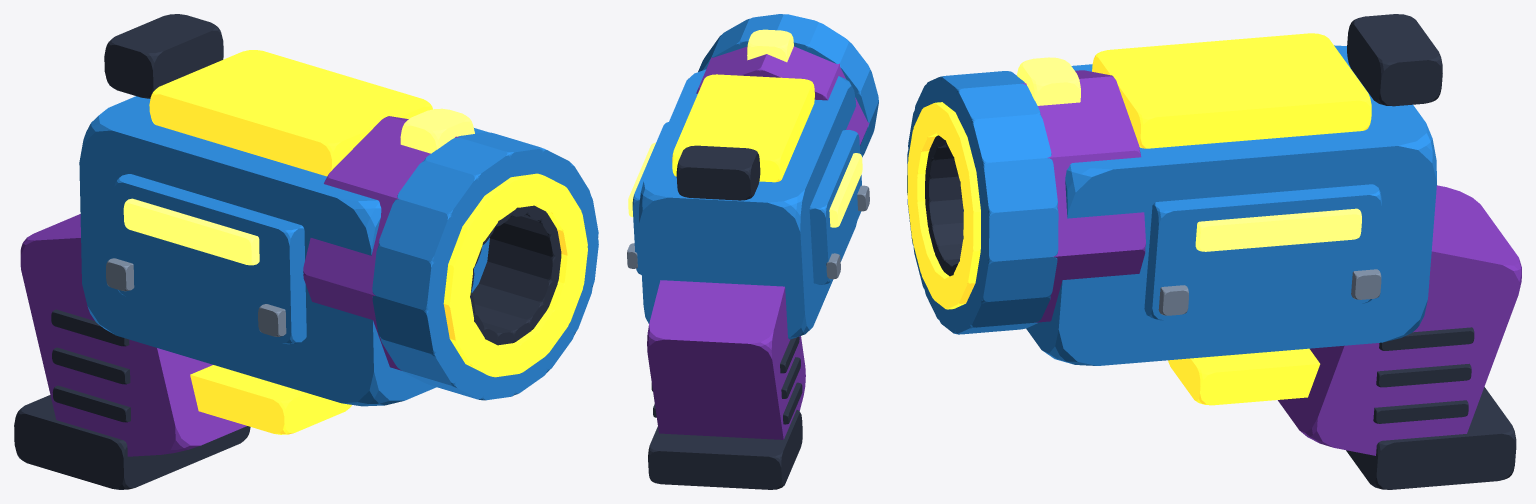
The model's file is Pistol.fbx.
The picture shows the model from 3 angles, left to right: view 1: azimuth 30°, elevation 25°; view 2: azimuth 150°, elevation 25°; view 3: azimuth 270°, elevation 25°; orthographic projection. The views are drawn at different scales.
Visible parts, largest first — view 1: Weapon_Pistol_Body, Weapon_Pistol_MuzzleCollar, Weapon_Pistol_Accent, Weapon_Pistol_Grip, Weapon_Pistol_SidePlate_-1, Weapon_Pistol_MuzzleRim, Weapon_Pistol_Barrel, Weapon_Pistol_Bore, Weapon_Pistol_GripHeel, Weapon_Pistol_RearSight, Weapon_Pistol_TriggerGuard, Weapon_Pistol_SideStripe_-1 (+6 smaller); view 2: Weapon_Pistol_Body, Weapon_Pistol_Grip, Weapon_Pistol_Accent, Weapon_Pistol_GripHeel, Weapon_Pistol_MuzzleCollar, Weapon_Pistol_RearSight, Weapon_Pistol_SidePlate_-1, Weapon_Pistol_Barrel, Weapon_Pistol_FrontSight, Weapon_Pistol_SideStripe_-1, Weapon_Pistol_SidePlate_1, Weapon_Pistol_GripRib_-1_2 (+5 smaller); view 3: Weapon_Pistol_Body, Weapon_Pistol_Grip, Weapon_Pistol_Accent, Weapon_Pistol_MuzzleCollar, Weapon_Pistol_SidePlate_1, Weapon_Pistol_Barrel, Weapon_Pistol_GripHeel, Weapon_Pistol_MuzzleRim, Weapon_Pistol_RearSight, Weapon_Pistol_TriggerGuard, Weapon_Pistol_SideStripe_1, Weapon_Pistol_Bore (+6 smaller).
Part boxes in pixels (left/top/right/bottom): Weapon_Pistol_Body: left=79, top=96, right=489, bottom=406; Weapon_Pistol_MuzzleCollar: left=372, top=132, right=598, bottom=400; Weapon_Pistol_Accent: left=149, top=50, right=432, bottom=176; Weapon_Pistol_Grip: left=20, top=214, right=246, bottom=456; Weapon_Pistol_SidePlate_-1: left=113, top=174, right=306, bottom=344; Weapon_Pistol_MuzzleRim: left=443, top=173, right=587, bottom=377; Weapon_Pistol_Barrel: left=303, top=116, right=459, bottom=370; Weapon_Pistol_Bore: left=470, top=205, right=561, bottom=345; Weapon_Pistol_GripHeel: left=14, top=395, right=250, bottom=489; Weapon_Pistol_RearSight: left=104, top=14, right=223, bottom=98; Weapon_Pistol_TriggerGuard: left=190, top=365, right=351, bottom=434; Weapon_Pistol_SideStripe_-1: left=123, top=198, right=259, bottom=265; Weapon_Pistol_Body: left=639, top=69, right=856, bottom=339; Weapon_Pistol_Grip: left=647, top=280, right=805, bottom=439; Weapon_Pistol_Accent: left=672, top=74, right=814, bottom=182; Weapon_Pistol_GripHeel: left=648, top=410, right=802, bottom=489; Weapon_Pistol_MuzzleCollar: left=698, top=14, right=878, bottom=157; Weapon_Pistol_RearSight: left=676, top=145, right=760, bottom=200; Weapon_Pistol_SidePlate_-1: left=809, top=130, right=861, bottom=284; Weapon_Pistol_Barrel: left=696, top=46, right=869, bottom=145; Weapon_Pistol_FrontSight: left=747, top=29, right=793, bottom=62; Weapon_Pistol_SideStripe_-1: left=829, top=153, right=862, bottom=227; Weapon_Pistol_SidePlate_1: left=632, top=122, right=668, bottom=274; Weapon_Pistol_GripRib_-1_2: left=783, top=382, right=802, bottom=424; Weapon_Pistol_Body: left=1026, top=45, right=1436, bottom=365; Weapon_Pistol_Grip: left=1278, top=185, right=1521, bottom=455; Weapon_Pistol_Accent: left=1092, top=33, right=1371, bottom=148; Weapon_Pistol_MuzzleCollar: left=907, top=71, right=1058, bottom=334; Weapon_Pistol_SidePlate_1: left=1144, top=184, right=1381, bottom=320; Weapon_Pistol_Barrel: left=1021, top=70, right=1145, bottom=322; Weapon_Pistol_GripHeel: left=1346, top=387, right=1516, bottom=489; Weapon_Pistol_MuzzleRim: left=907, top=102, right=980, bottom=309; Weapon_Pistol_RearSight: left=1347, top=14, right=1442, bottom=106; Weapon_Pistol_TriggerGuard: left=1168, top=348, right=1320, bottom=405; Weapon_Pistol_SideStripe_1: left=1195, top=208, right=1361, bottom=251; Weapon_Pistol_Bore: left=925, top=135, right=963, bottom=276.
Size of the model in its own units: 49.73 by 59.95 by 75.68.
